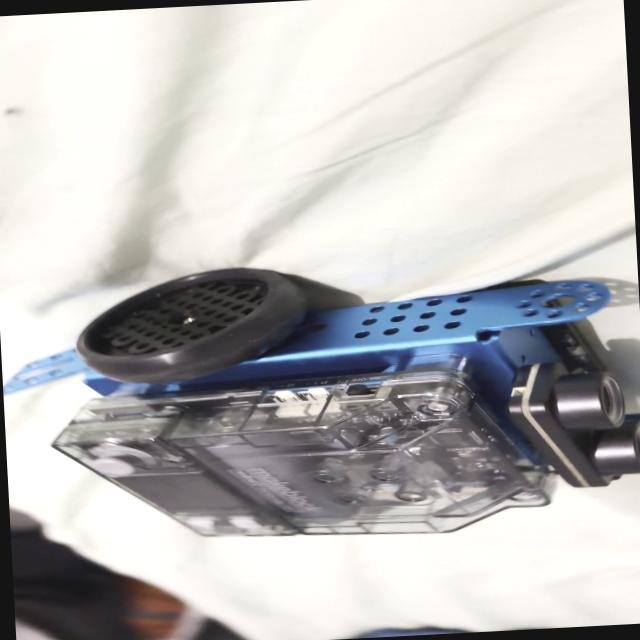mbot-detection: (0, 243, 640, 580)
